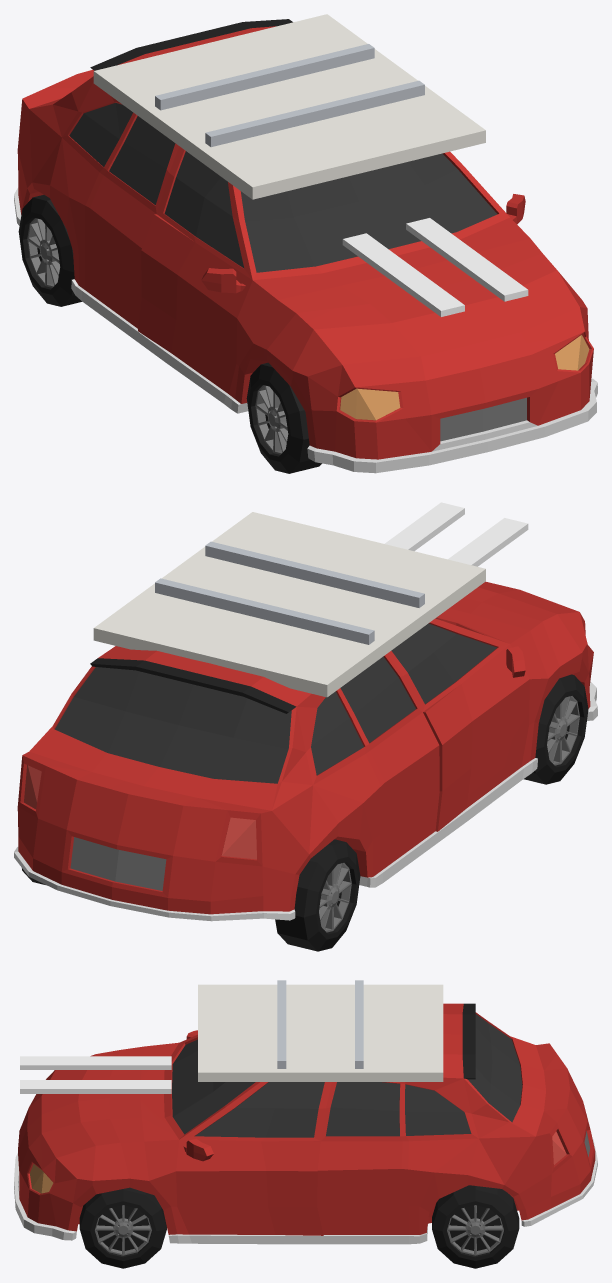
The model's file is mini.glb.
3 views of the same model, one above another, from view 1: azimuth 30°, elevation 25°; view 2: azimuth 150°, elevation 25°; view 3: azimuth 270°, elevation 25° (orthographic). The views are drawn at different scales.
Visible parts, largest first — view 1: NormalCar2; view 2: NormalCar2; view 3: NormalCar2.
Part boxes in pixels (x1,y1,x2,y2): NormalCar2: (14,14,597,473); NormalCar2: (14,502,597,951); NormalCar2: (14,980,597,1268).
Bounding box in the file's own units: 1.64 × 1.22 × 3.31.
